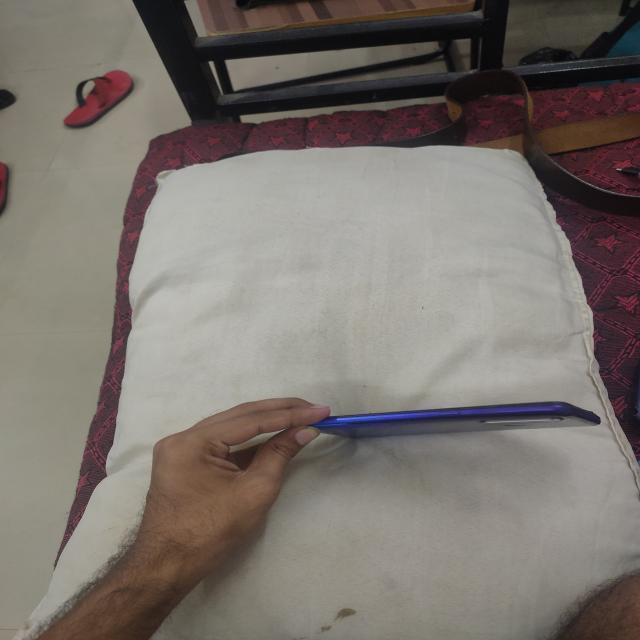Phone: (312, 396, 605, 446)
